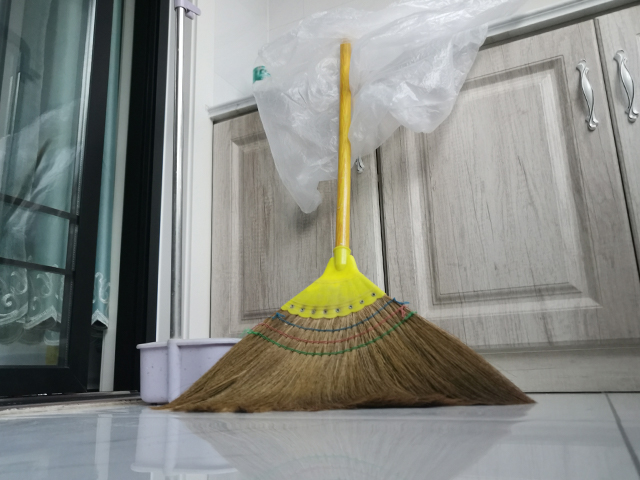cabinet: (205, 1, 640, 395)
